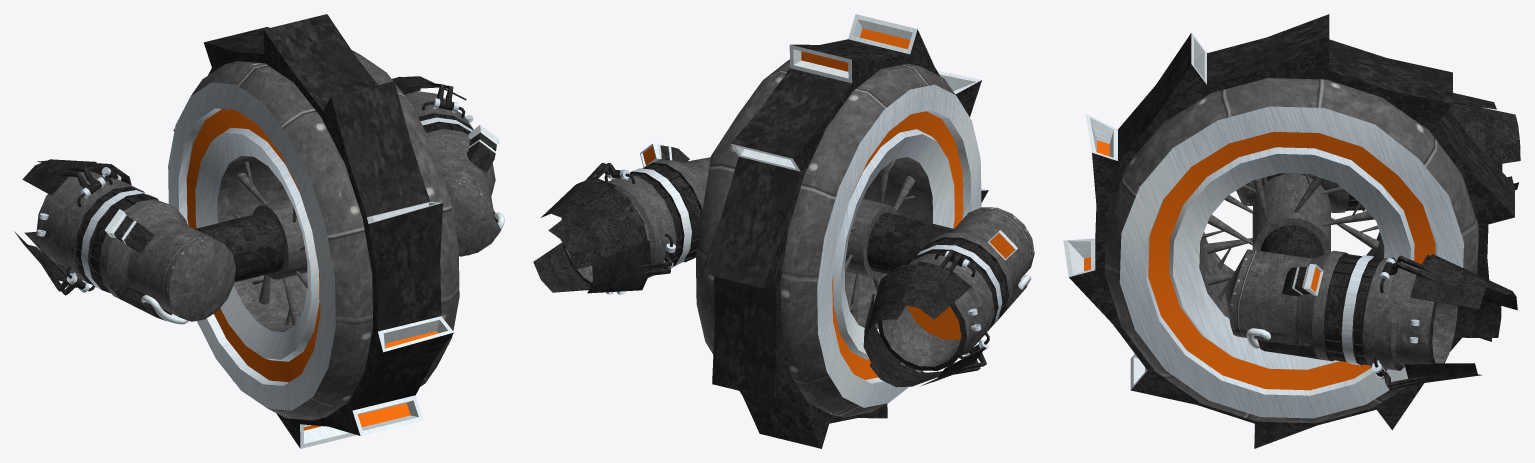
The model's file is DeathWheel_80.dae.
3 views of the same model, side by side, from view 1: azimuth 30°, elevation 25°; view 2: azimuth 150°, elevation 25°; view 3: azimuth 270°, elevation 25° (orthographic). The views are drawn at different scales.
Parts seen in each view (by area): view 1: DeathWheel_2, rightThruster, leftThruster, Axel, polySurface115, rightSpokes, ThickSpinner_ncl1_1, polySurface99, outFlap3, ThinSpinner_ncl1_1; view 2: DeathWheel_2, rightThruster, leftThruster, inFlap2, Axel, polySurface115, outFlap2, polySurface113, outFlap3, outFlap1, polySurface106, ThickSpinner (+5 smaller); view 3: DeathWheel_2, leftThruster, outFlap3, polySurface113, ThickSpinner, leftSpokes, Axel, outFlap1, outFlap2, rightSpokes, ThinSpinner, rightThruster (+1 smaller).
Part boxes in pixels (left/top/right/bottom): DeathWheel_2: left=168, top=14, right=459, bottom=448; rightThruster: left=36, top=167, right=235, bottom=324; leftThruster: left=404, top=91, right=504, bottom=256; Axel: left=195, top=212, right=284, bottom=282; polySurface115: left=22, top=159, right=101, bottom=195; rightSpokes: left=235, top=161, right=307, bottom=325; ThickSpinner_ncl1_1: left=89, top=195, right=156, bottom=292; polySurface99: left=14, top=231, right=85, bottom=295; outFlap3: left=401, top=76, right=466, bottom=110; ThinSpinner_ncl1_1: left=76, top=188, right=137, bottom=283; DeathWheel_2: left=696, top=14, right=988, bottom=448; rightThruster: left=878, top=207, right=1034, bottom=372; leftThruster: left=561, top=143, right=710, bottom=294; inFlap2: left=548, top=188, right=647, bottom=270; Axel: left=867, top=212, right=953, bottom=274; polySurface115: left=901, top=249, right=971, bottom=319; outFlap2: left=587, top=240, right=674, bottom=293; polySurface113: left=865, top=264, right=916, bottom=340; outFlap3: left=541, top=163, right=621, bottom=218; outFlap1: left=533, top=242, right=590, bottom=292; polySurface106: left=869, top=338, right=942, bottom=387; ThickSpinner: left=642, top=164, right=701, bottom=262; DeathWheel_2: left=1063, top=14, right=1514, bottom=448; leftThruster: left=1224, top=249, right=1457, bottom=379; outFlap3: left=1382, top=255, right=1489, bottom=309; polySurface113: left=1449, top=103, right=1520, bottom=163; ThickSpinner: left=1324, top=254, right=1361, bottom=361; leftSpokes: left=1201, top=174, right=1374, bottom=300; Axel: left=1260, top=173, right=1323, bottom=258; outFlap1: left=1376, top=363, right=1482, bottom=389; outFlap2: left=1454, top=300, right=1501, bottom=337; rightSpokes: left=1205, top=177, right=1379, bottom=269; ThinSpinner: left=1353, top=258, right=1382, bottom=364; rightThruster: left=1236, top=179, right=1366, bottom=212.
Bounding box in the file's own units: 5.72 × 4.95 × 5.08.
